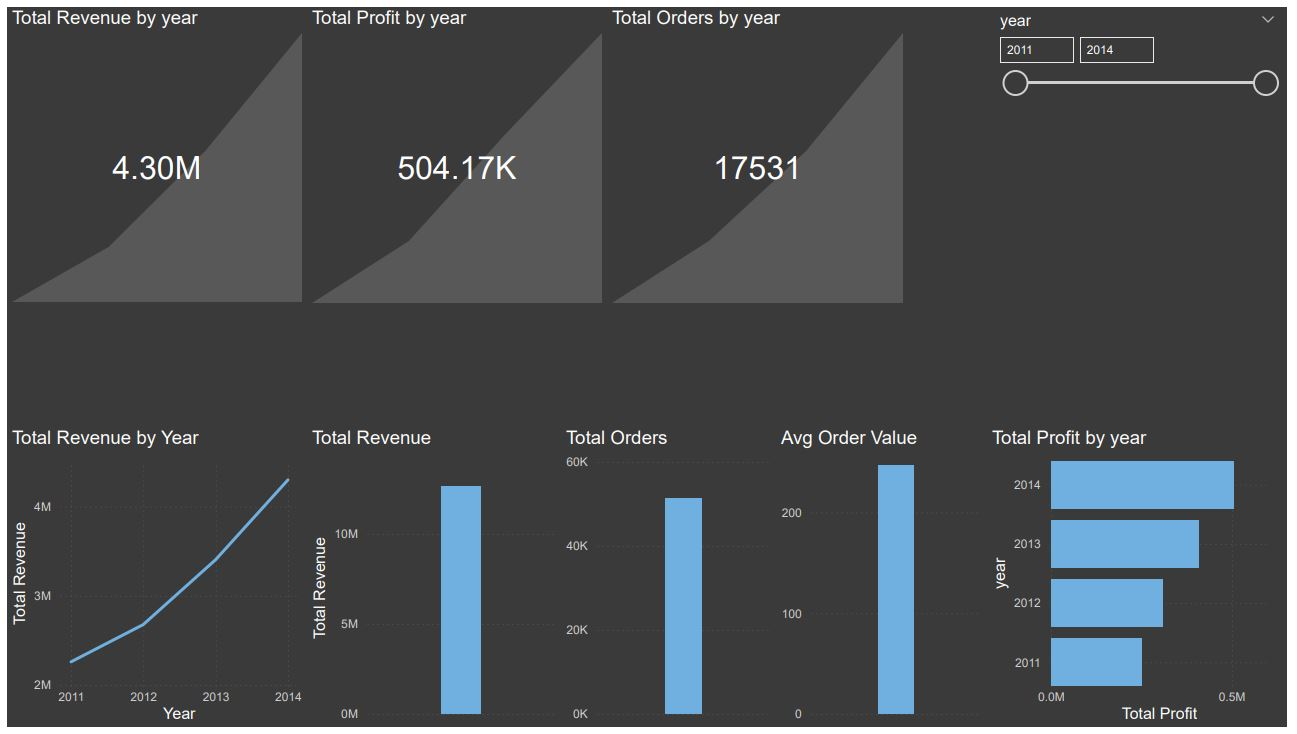

What the dashboard file says about the page in this screenshot:
{"tool":"powerbi","page":{"name":"Sales Overview","canvas":[1280,720],"ordinal":0},"visuals":[{"type":"clusteredColumnChart","fields":{"Y":["marts fact_sales.Total Revenue"]},"box":[299.6,420.2,254.8,299.6],"z":0},{"type":"clusteredColumnChart","fields":{"Y":["marts fact_sales.Total Orders"]},"box":[554.4,420.2,215,299.6],"z":1000},{"type":"clusteredColumnChart","fields":{"Y":["marts fact_sales.Avg Order Value"]},"box":[769.4,420.2,211.1,299.6],"z":2000},{"type":"lineChart","fields":{"Category":["marts dim_date.full_date.Variation.Date Hierarchy.Year","marts dim_date.full_date.Variation.Date Hierarchy.Quarter","marts dim_date.full_date.Variation.Date Hierarchy.Month","marts dim_date.full_date.Variation.Date Hierarchy.Day"],"Y":["marts fact_sales.Total Revenue"]},"box":[0,420.2,299.6,299.6],"z":3000},{"type":"barChart","fields":{"Category":["marts dim_date.year"],"Y":["marts fact_sales.Total Profit"]},"box":[980.4,420.2,299.6,299.6],"z":4000},{"type":"kpi","fields":{"Indicator":["marts fact_sales.Total Revenue"],"TrendLine":["marts dim_date.year"]},"box":[0,0,300,300],"z":4001},{"type":"kpi","fields":{"Indicator":["marts fact_sales.Total Profit"],"TrendLine":["marts dim_date.year"]},"box":[299.6,0,300.5,300.5],"z":4005},{"type":"kpi","fields":{"Indicator":["marts fact_sales.Total Orders"],"TrendLine":["marts dim_date.year"]},"box":[600.1,0,300.5,300.5],"z":4006},{"type":"slicer","fields":{"Values":["marts dim_date.year"]},"box":[980,0,300,301],"z":4007}]}

Visuals, with their boxes in screenshot pixels (x1, y1, x2, y2), scaled from the page's 1280x720 canvas onto the 1297x734 screenshot:
clusteredColumnChart - marts fact_sales.Total Revenue: box(304, 428, 562, 733)
clusteredColumnChart - marts fact_sales.Total Orders: box(562, 428, 780, 733)
clusteredColumnChart - marts fact_sales.Avg Order Value: box(780, 428, 994, 733)
lineChart - marts dim_date.full_date.Variation.Date Hierarchy.Year x marts dim_date.full_date.Variation.Date Hierarchy.Quarter: box(0, 428, 304, 733)
barChart - marts dim_date.year x marts fact_sales.Total Profit: box(993, 428, 1296, 733)
kpi - marts fact_sales.Total Revenue x marts dim_date.year: box(0, 0, 304, 306)
kpi - marts fact_sales.Total Profit x marts dim_date.year: box(304, 0, 608, 306)
kpi - marts fact_sales.Total Orders x marts dim_date.year: box(608, 0, 913, 306)
slicer - marts dim_date.year: box(993, 0, 1296, 307)
